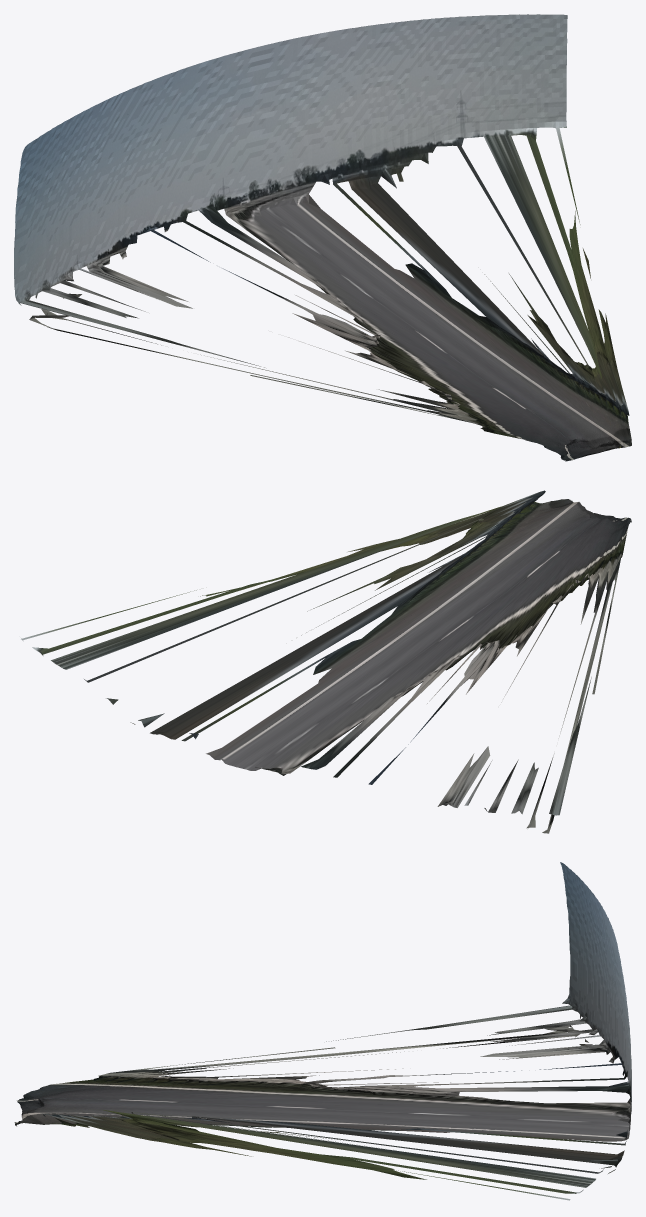
3 views of the same model, one above another, from view 1: azimuth 30°, elevation 25°; view 2: azimuth 150°, elevation 25°; view 3: azimuth 270°, elevation 25° (orthographic). The views are drawn at different scales.
Visible parts, largest first — view 1: defaultobject; view 2: defaultobject; view 3: defaultobject.
Part boxes in pixels (x1,y1,x2,y2): defaultobject: [14, 14, 631, 461]; defaultobject: [21, 490, 631, 833]; defaultobject: [14, 862, 631, 1200].
Bounding box in the file's own units: 41.12 × 13.85 × 44.68.
1 material, 1 textured.
